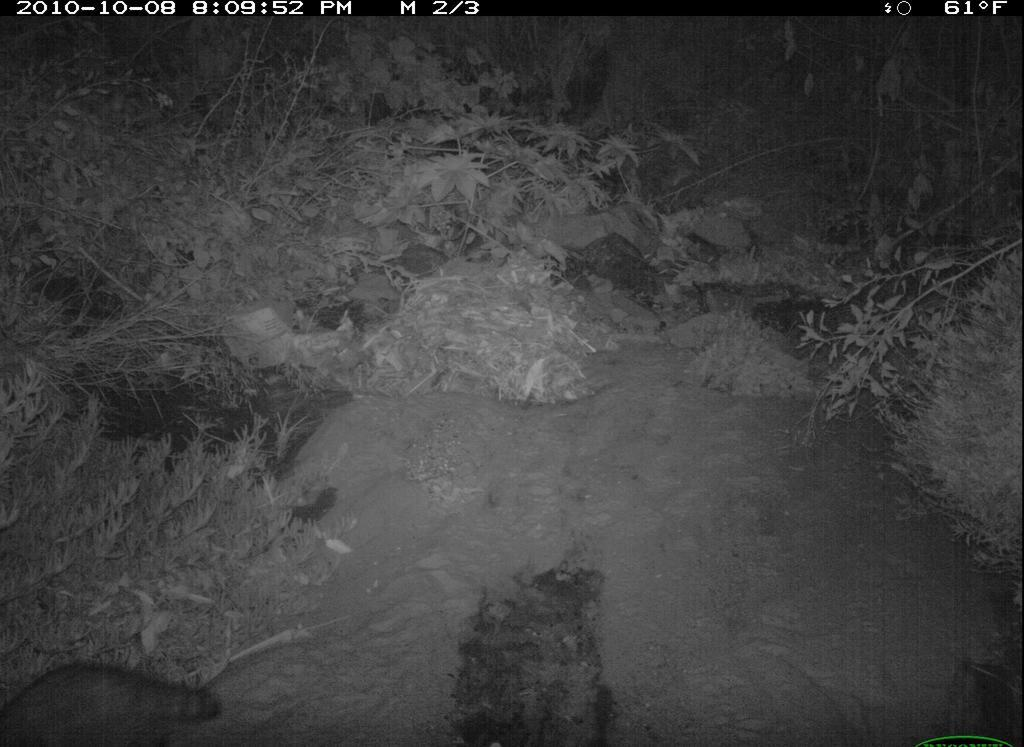raccoon: (3, 656, 225, 745)
